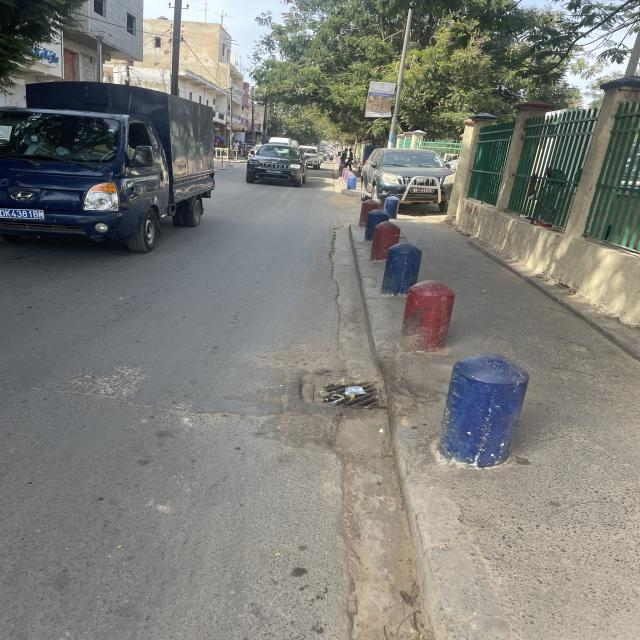fourgon: (8, 82, 218, 252)
particulier: (363, 150, 457, 215), (245, 144, 311, 188), (300, 148, 327, 172)
